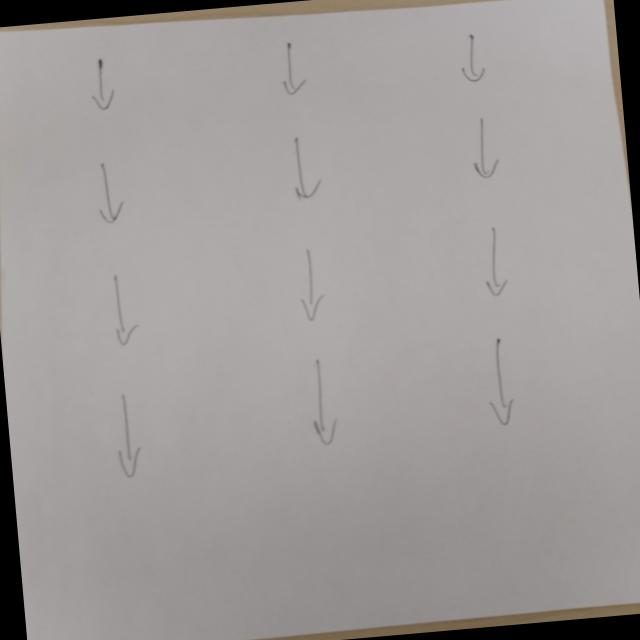arrow_line_down: (275, 130, 334, 216), (306, 354, 353, 449), (105, 390, 148, 483), (481, 335, 522, 431), (96, 266, 142, 351), (290, 241, 334, 326), (86, 155, 136, 227), (476, 222, 520, 302), (449, 28, 498, 84), (466, 116, 506, 183), (81, 53, 120, 115), (280, 40, 313, 101)
